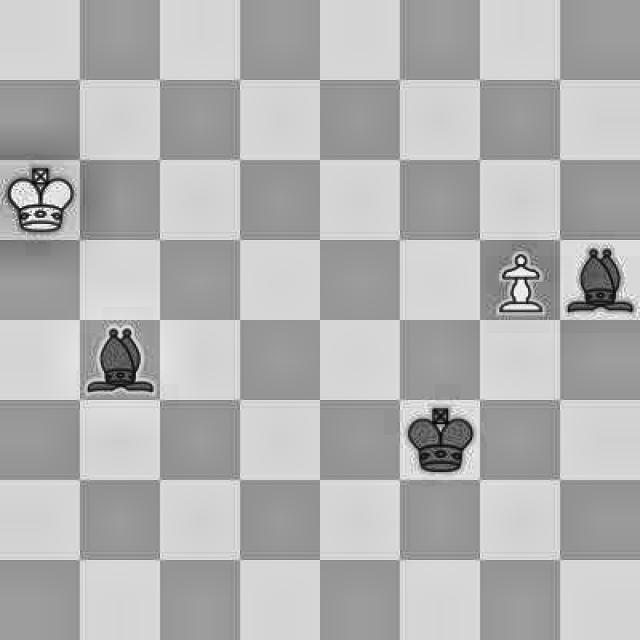black bishop: (563, 238, 639, 320), (81, 323, 160, 399)
black king: (408, 403, 476, 483)
white king: (5, 158, 81, 240)
white pawn: (486, 243, 556, 325)
